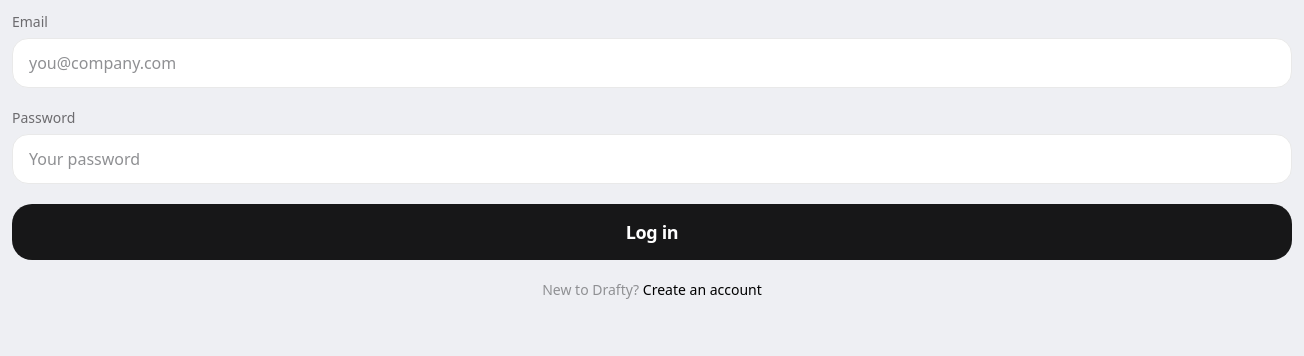
it: LoginForm › surfaces the server error on rejected credentials
The image size is (1304, 356).
Type "santi@example.com" into the field labelled "Email". click: (652, 63)
box: x1=12 y1=38 x2=1292 y2=88
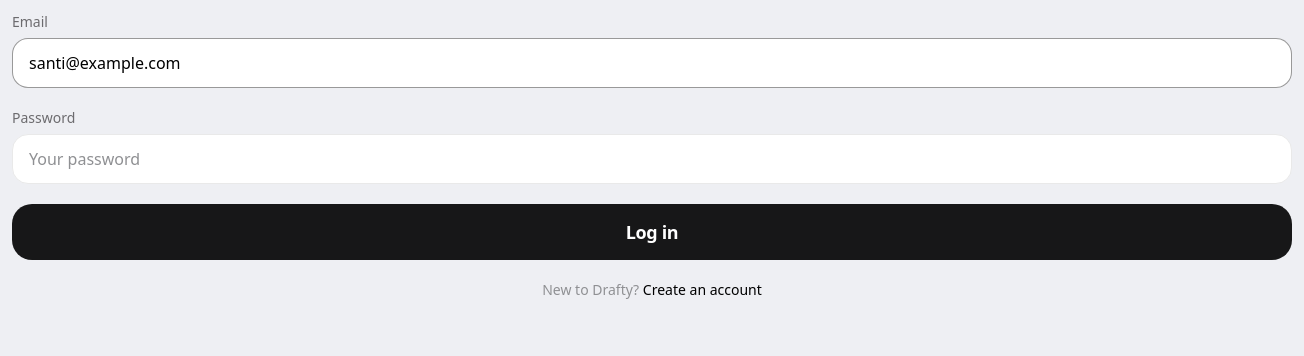
Type "wrong-password" into the password field labelled "Password". click: (652, 159)
box: x1=12 y1=134 x2=1292 y2=184
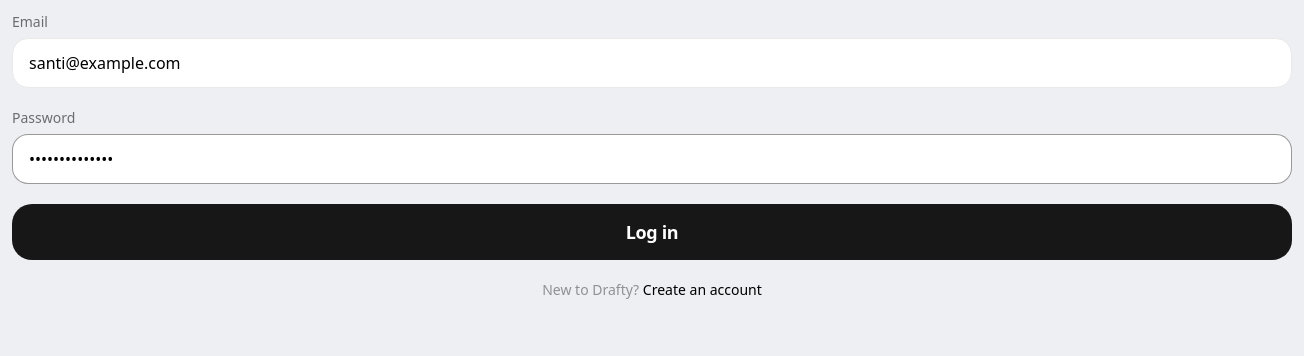
Click the button "Log in". click: (652, 232)
box: x1=12 y1=204 x2=1292 y2=260
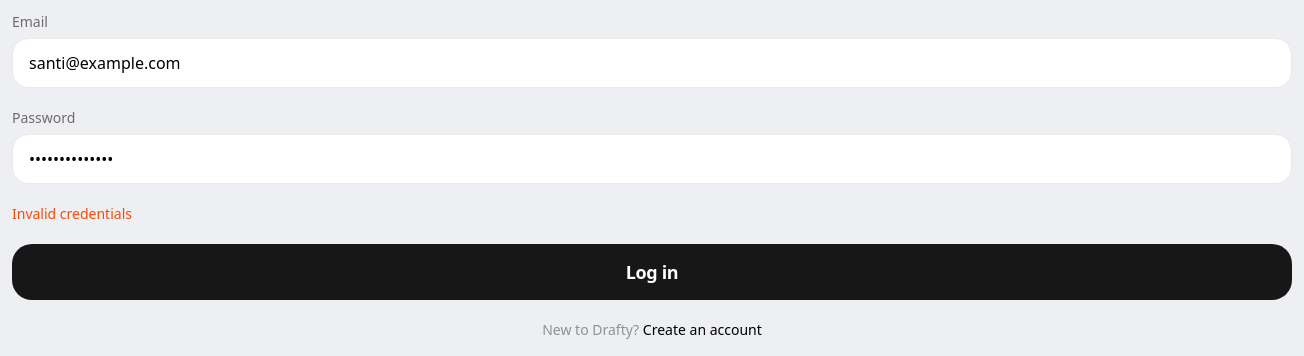
Now the message reads "Invalid credentials", box x1=12 y1=204 x2=132 y2=223
